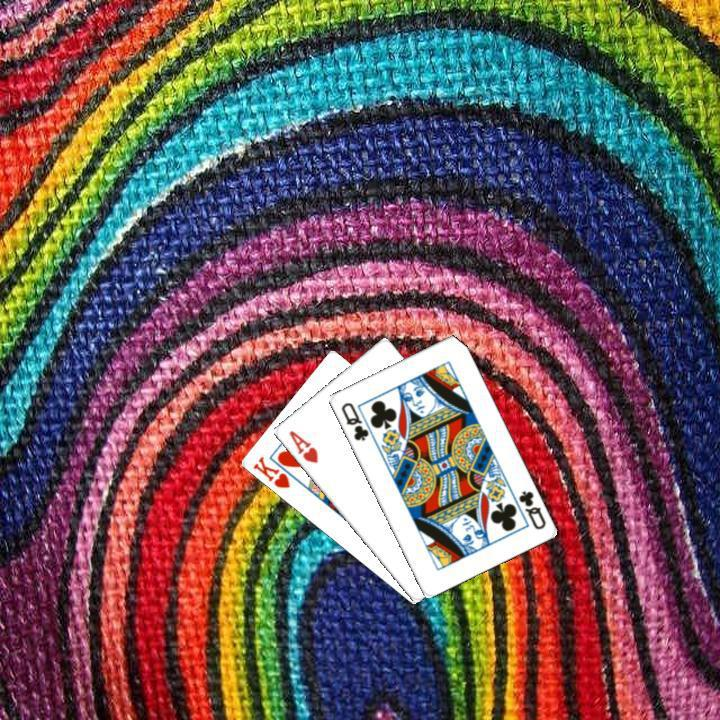A: (284, 426, 320, 465)
K: (248, 452, 292, 491)
Q: (336, 398, 370, 443), (514, 486, 548, 531)
